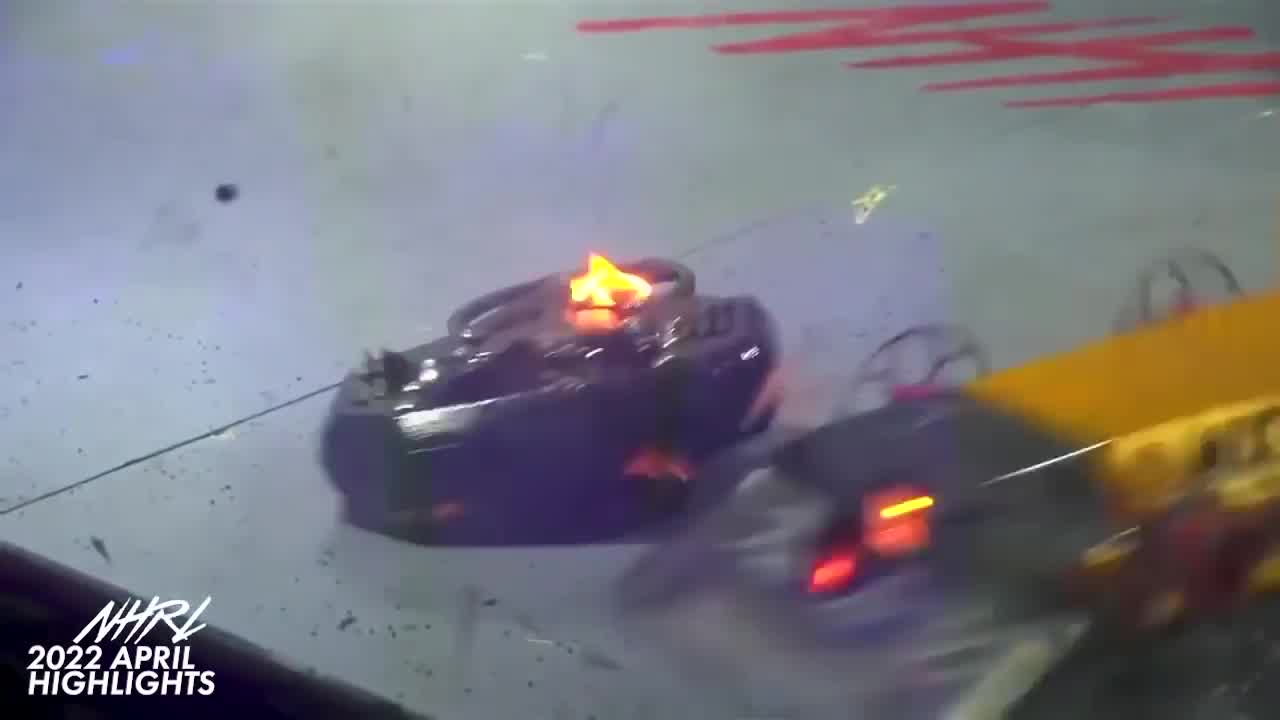combatbot: (781, 252, 1276, 659), (324, 253, 786, 554)
